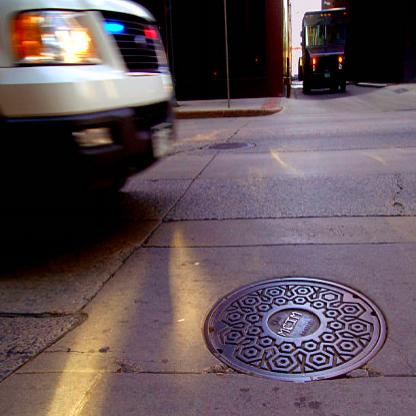manholes: (198, 260, 393, 392)
